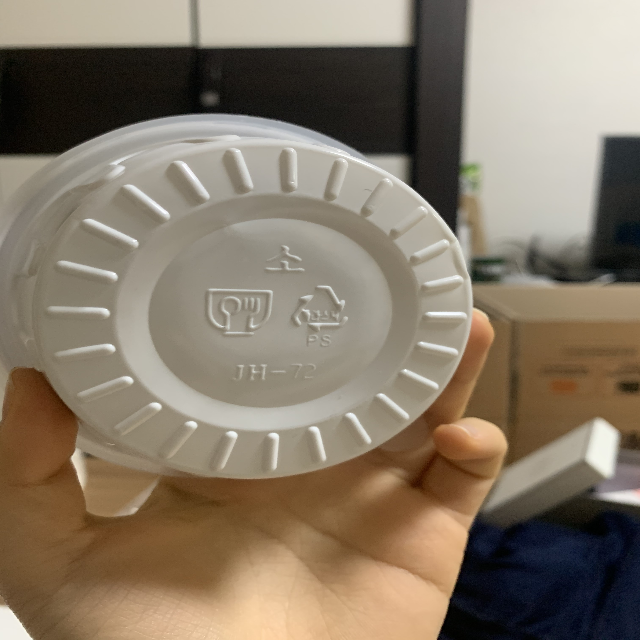ps: (289, 280, 353, 350)
